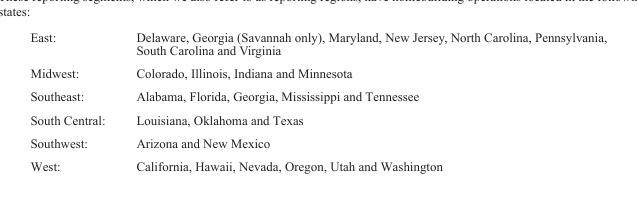table: (29, 29, 606, 172)
table column: (119, 29, 606, 172), (29, 29, 119, 172)
table row: (29, 29, 606, 61), (29, 130, 606, 154), (29, 61, 606, 84), (29, 84, 606, 107), (29, 107, 606, 130), (29, 154, 606, 172)
